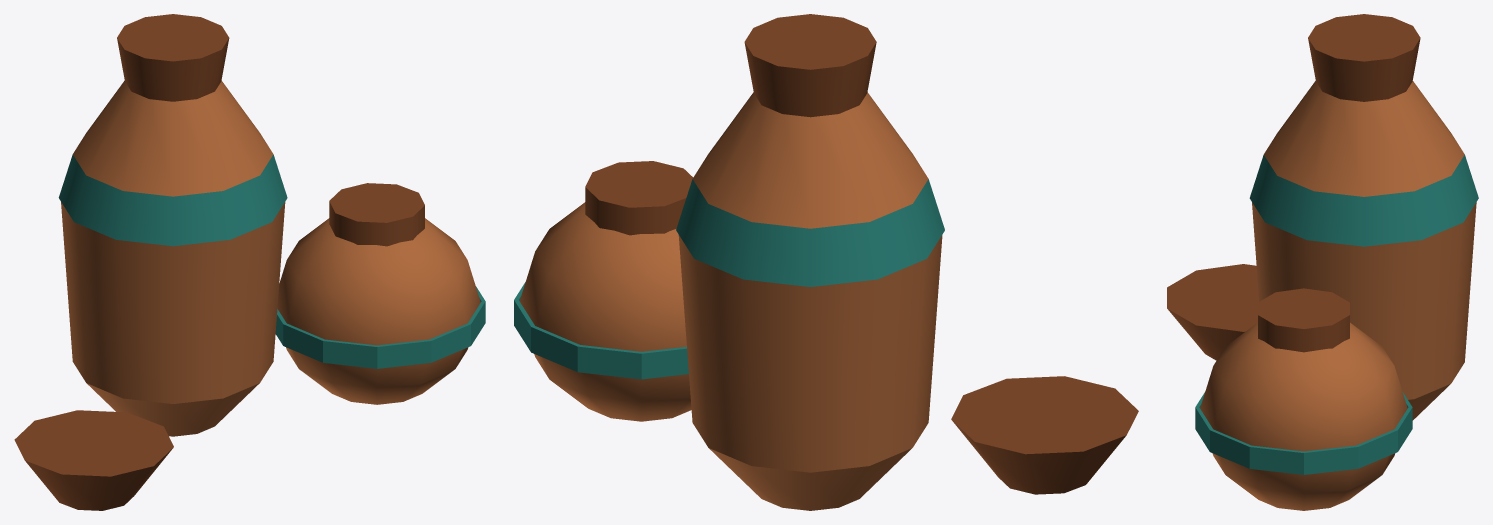
Rendered from jt_pottery.glb.
3 renders of one model, left to right at view 1: azimuth 30°, elevation 25°; view 2: azimuth 150°, elevation 25°; view 3: azimuth 270°, elevation 25°, orthographic. The views are drawn at different scales.
Visible parts, largest first — view 1: jt_pottery; view 2: jt_pottery; view 3: jt_pottery.
Boxes of the visible parts, left/top/right/bottom form: jt_pottery: left=14, top=14, right=485, bottom=510; jt_pottery: left=514, top=14, right=1138, bottom=510; jt_pottery: left=1167, top=14, right=1478, bottom=510.
Bounding box in the file's own units: 1.37 × 1.04 × 0.7752.
